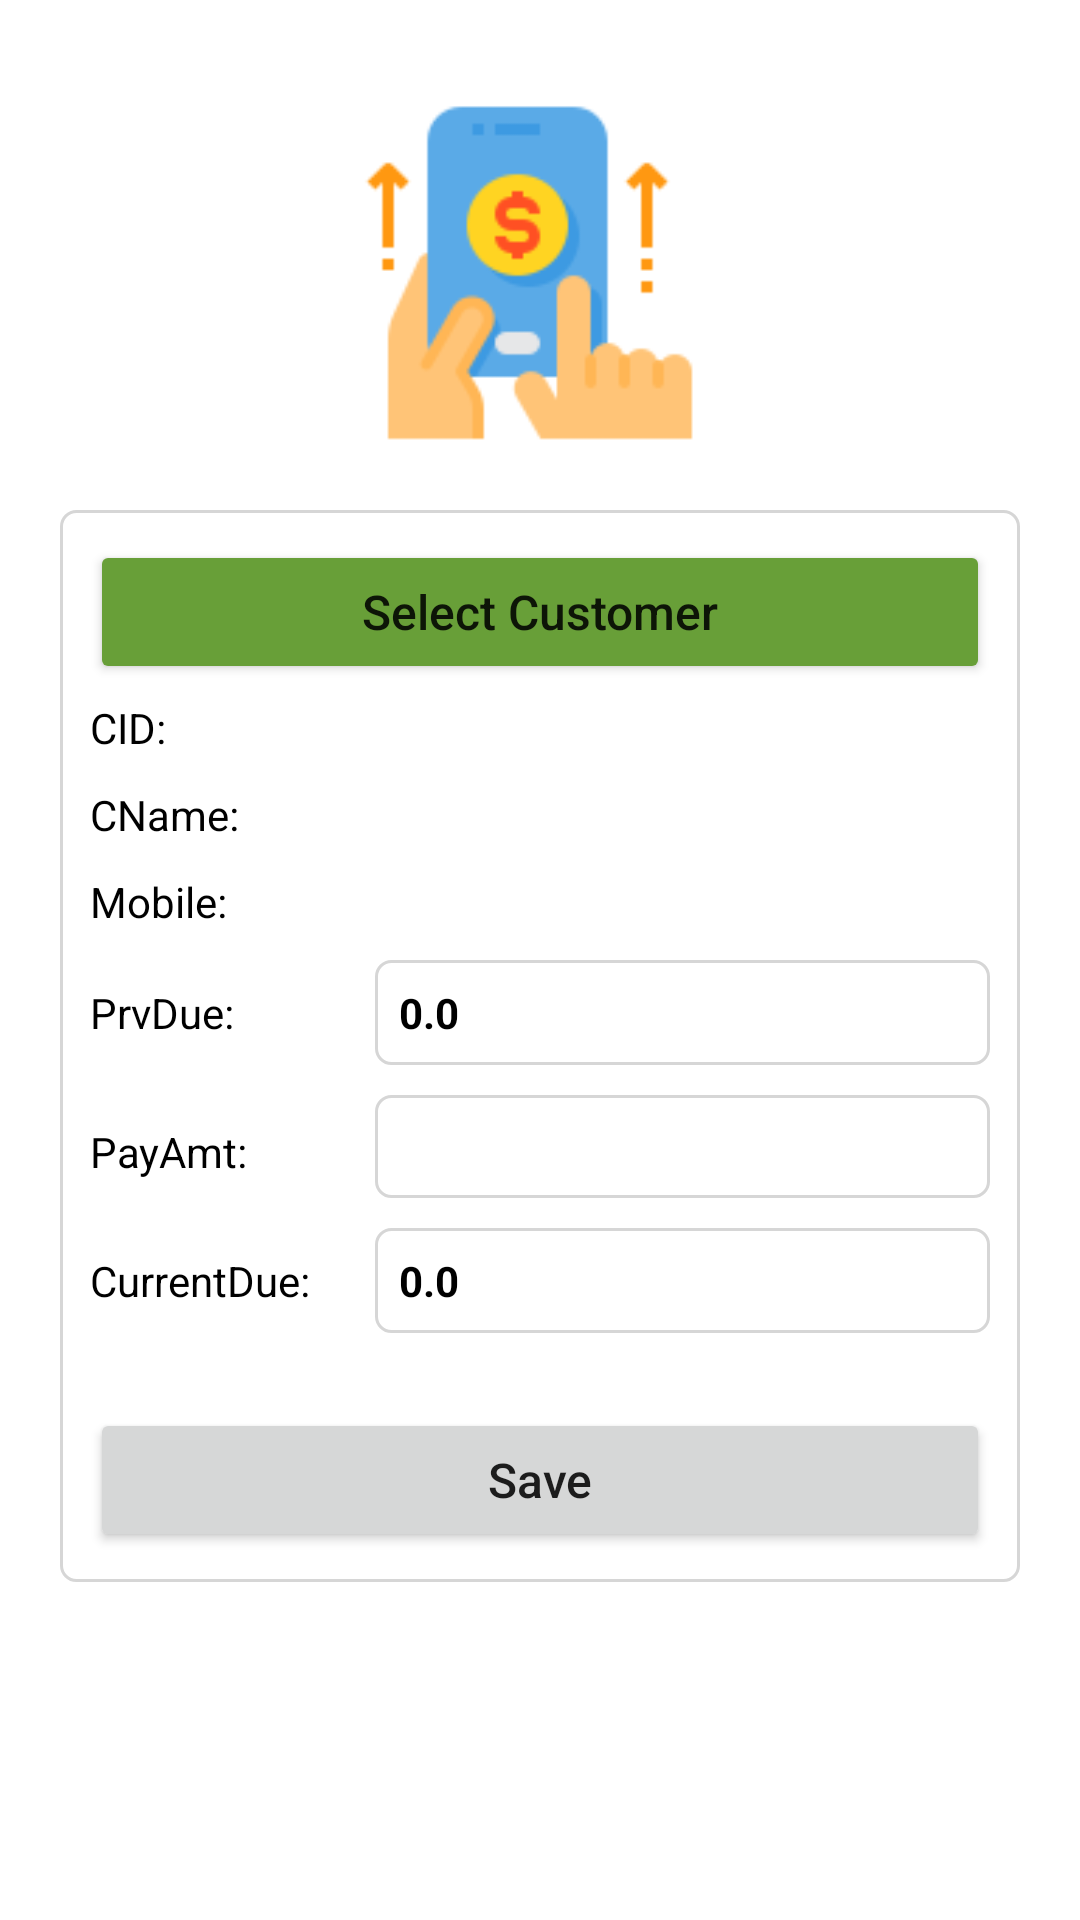

Icons on this 1080w x 1920h Android screen, each with its box as (left=x1, top=y1, right=x2, bottom=y2):
money: (left=366, top=106, right=693, bottom=440)
